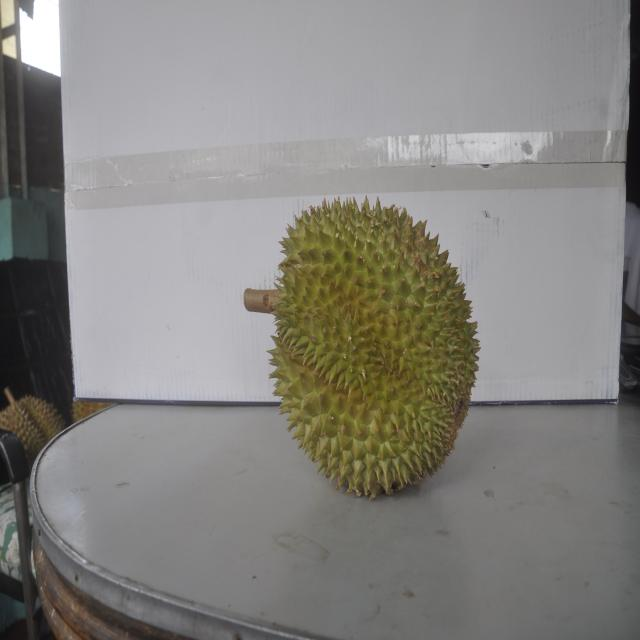mature: (263, 193, 468, 499), (1, 392, 65, 466)
